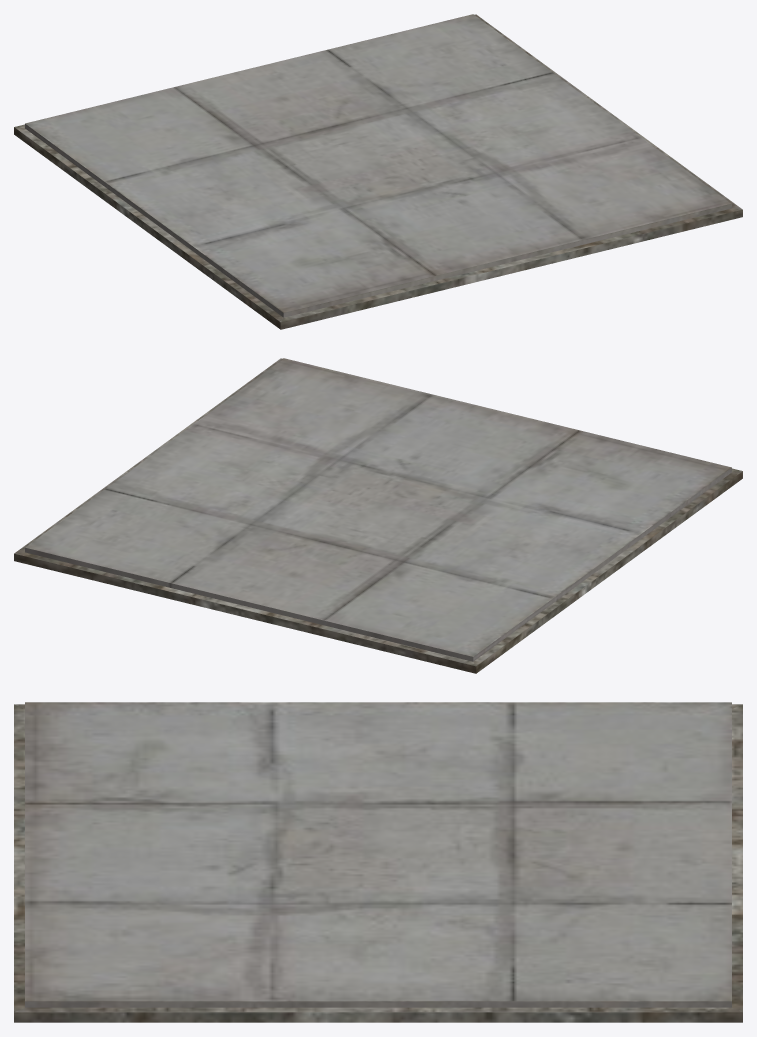
The model's file is stone_foundation_square_low_textured.glb.
3 views of the same model, one above another, from view 1: azimuth 30°, elevation 25°; view 2: azimuth 150°, elevation 25°; view 3: azimuth 270°, elevation 25° (orthographic). The views are drawn at different scales.
Parts seen in each view (by area): view 1: Cube; view 2: Cube; view 3: Cube.
Part boxes in pixels (box(x1,y1,x2,y2)): Cube: box(14, 14, 742, 329); Cube: box(14, 358, 742, 673); Cube: box(14, 702, 742, 1022).
Size of the model in its own units: 2 by 0.0508 by 2.
1 material, 1 textured.
